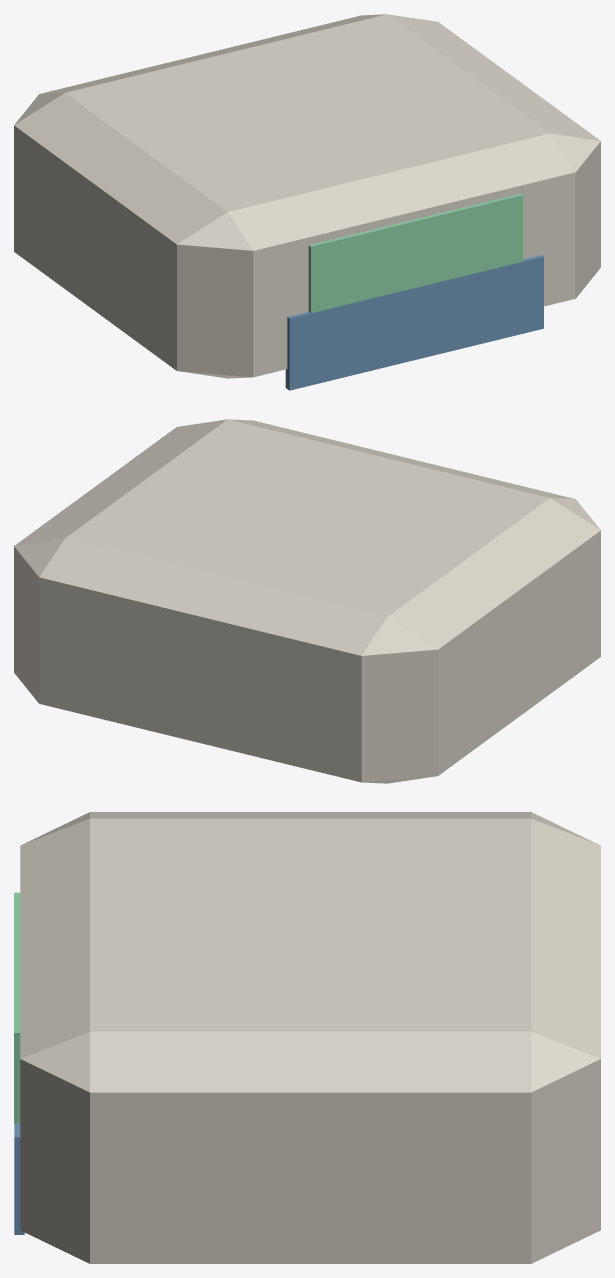
Rendered from gym.glb.
The picture shows the model from 3 angles, top to bottom: view 1: azimuth 30°, elevation 25°; view 2: azimuth 150°, elevation 25°; view 3: azimuth 270°, elevation 25°; orthographic projection. The views are drawn at different scales.
Visible parts, largest first — view 1: walls, front, banner; view 2: walls; view 3: walls, banner, front.
Part boxes in pixels (left/top/right/bottom): walls: left=14, top=14, right=600, bottom=378; front: left=285, top=255, right=543, bottom=390; banner: left=308, top=193, right=522, bottom=313; walls: left=14, top=419, right=600, bottom=783; walls: left=20, top=812, right=600, bottom=1263; banner: left=14, top=892, right=20, bottom=1123; front: left=14, top=1123, right=24, bottom=1234.
Size of the model in its own units: 16 by 6 by 14.15.
